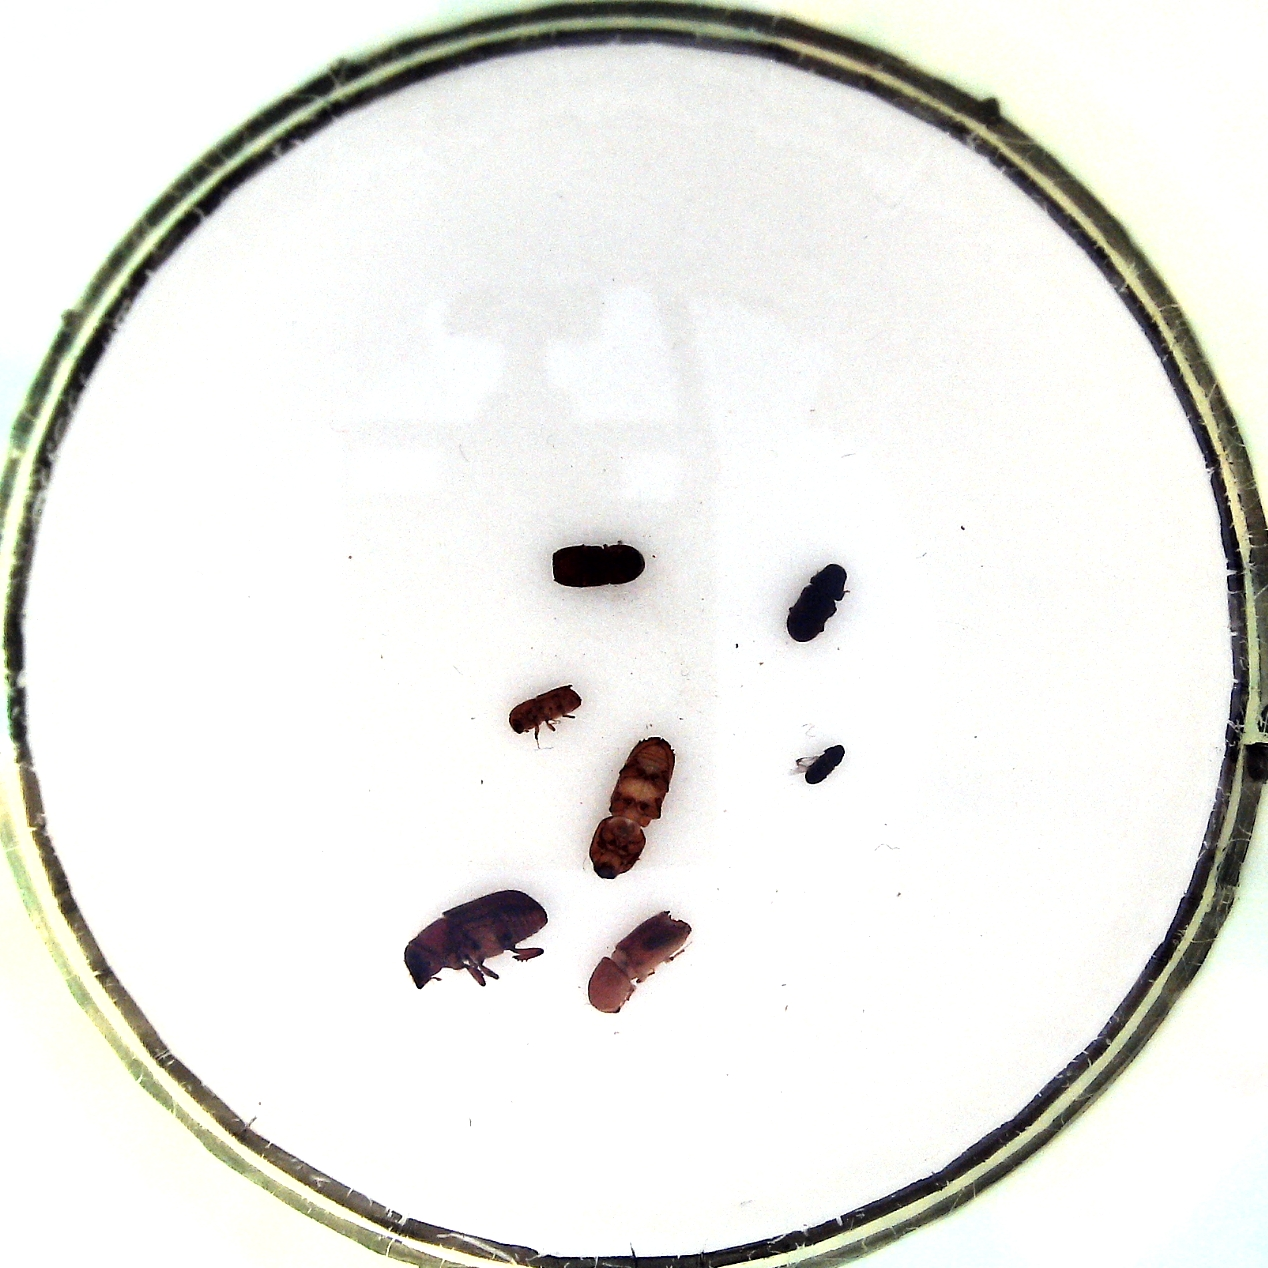Boerner: (586, 735, 680, 881), (581, 909, 697, 1016)
Leconte: (397, 885, 550, 990)
Linnaeus: (548, 540, 648, 591)
acuminatus: (505, 680, 586, 742)
armandi: (781, 560, 856, 644)
coleoptera: (792, 740, 848, 786)
